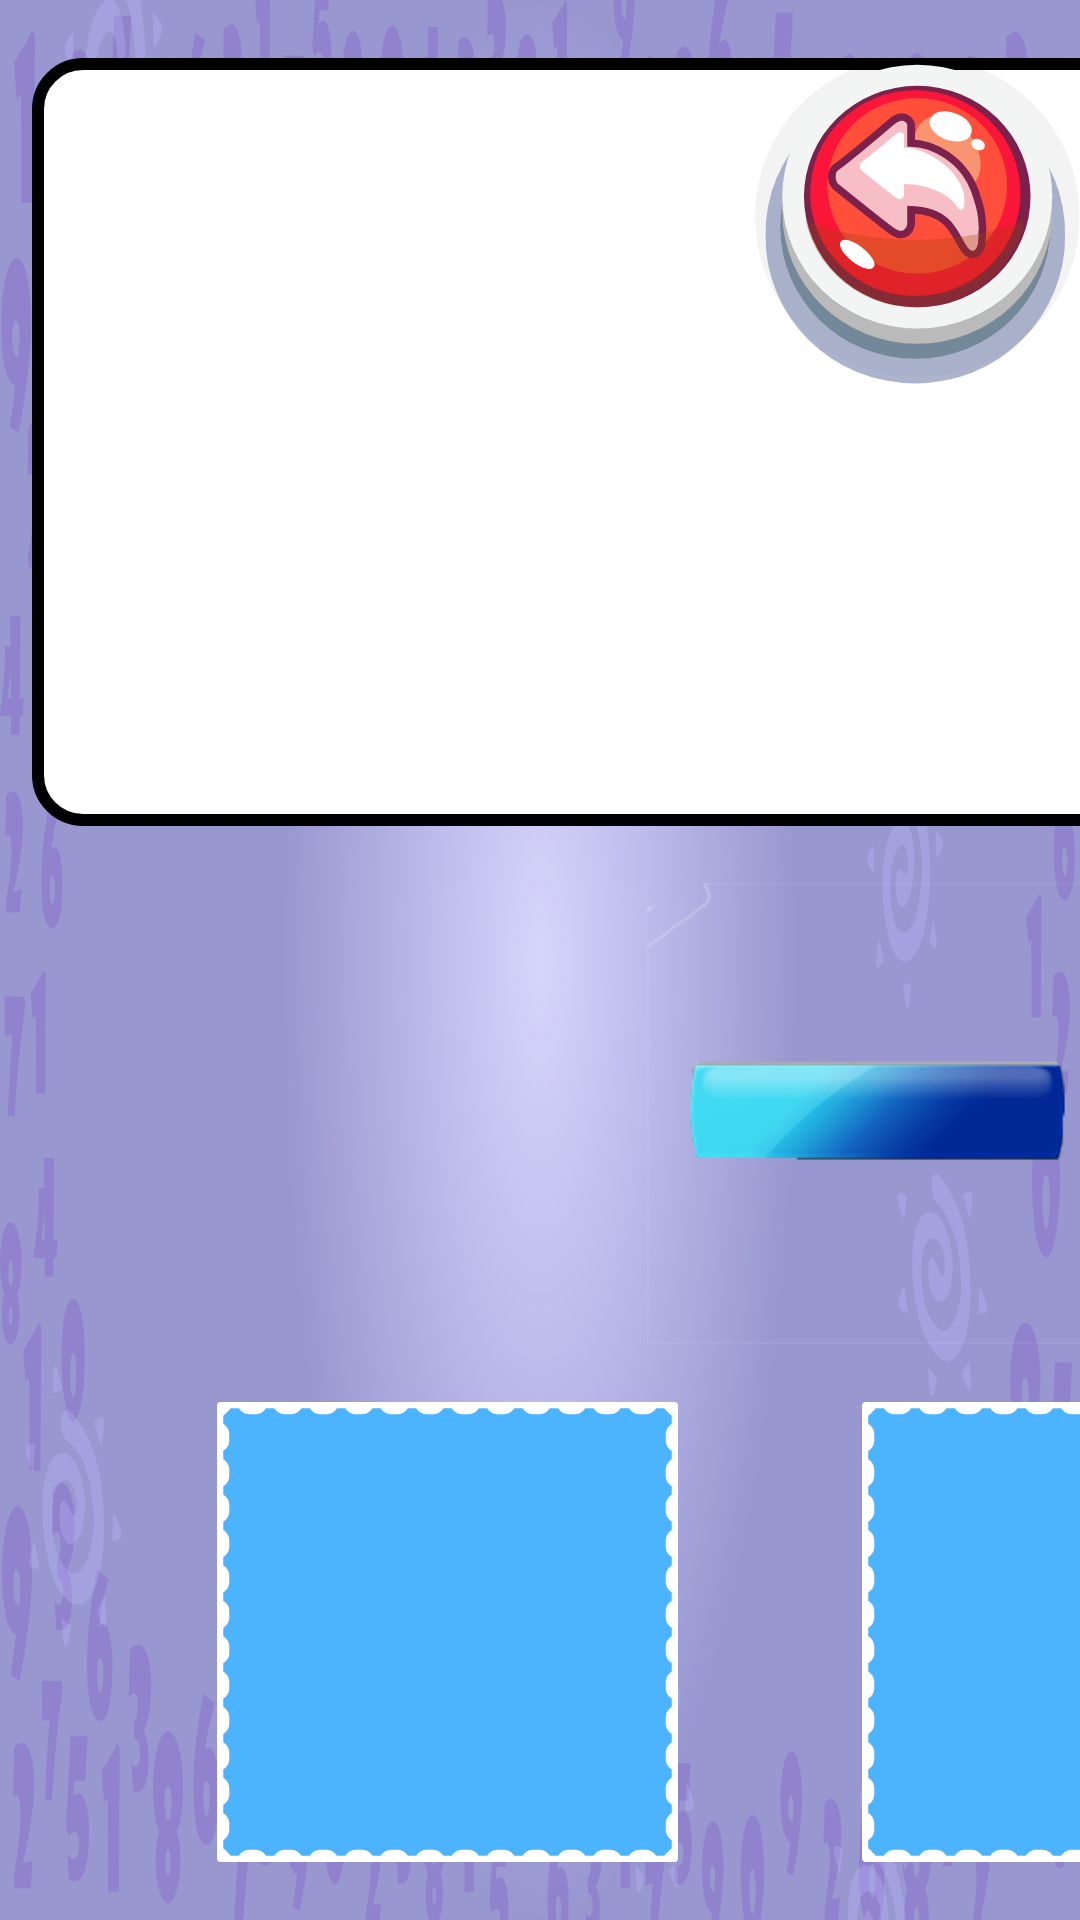

Screen size 1080×1920. Icon name, then its box in pixels as (x1, y1, x2, y2):
exit: (765, 85, 1065, 384)
